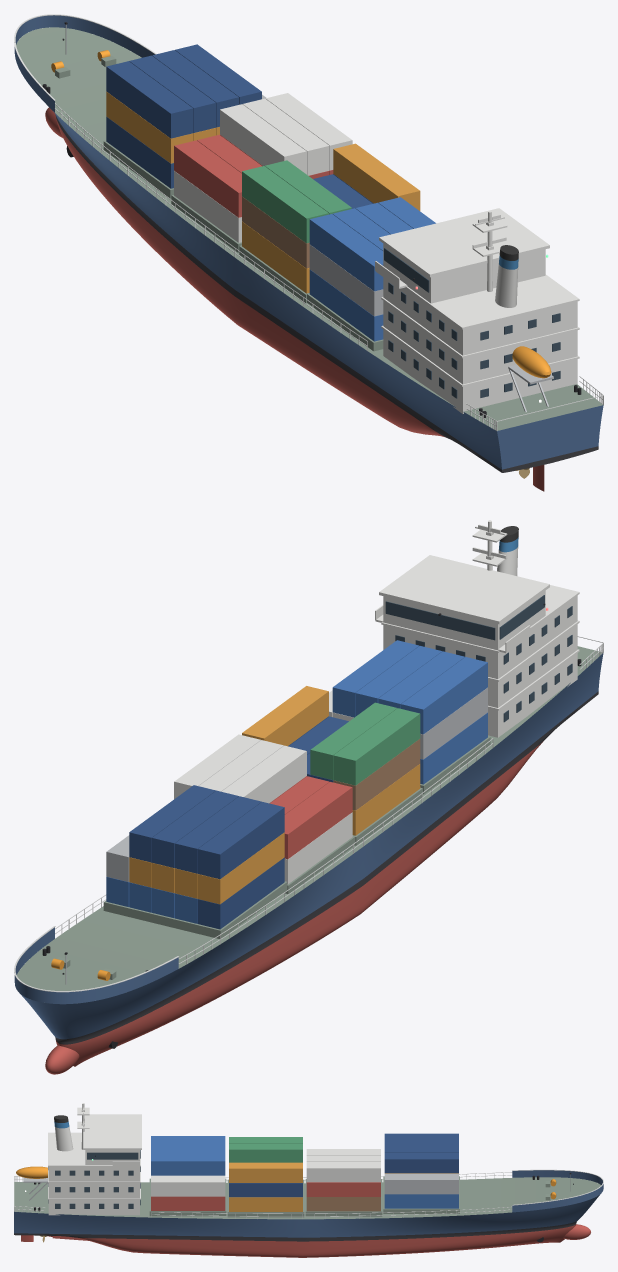
File: container_749gt.glb
3 renders of one model, top to bottom at view 1: azimuth 30°, elevation 25°; view 2: azimuth 150°, elevation 25°; view 3: azimuth 270°, elevation 25°, orthographic. The views are drawn at different scales.
Parts seen in each view (by area): view 1: cargo, hull, superstructure, deck_fittings; view 2: cargo, hull, superstructure, deck_fittings, hull_appendages; view 3: hull, cargo, superstructure, deck_fittings, hull_appendages.
Boxes of the visible parts, x1,y1,x2,y2 form: cargo: [103, 44, 435, 351]; hull: [16, 27, 603, 472]; superstructure: [62, 22, 579, 413]; deck_fittings: [14, 14, 603, 430]; cargo: [103, 640, 490, 938]; hull: [16, 646, 603, 1066]; superstructure: [62, 520, 579, 984]; deck_fittings: [14, 636, 603, 1004]; hull_appendages: [45, 1041, 117, 1074]; hull: [14, 1177, 601, 1257]; cargo: [149, 1133, 459, 1217]; superstructure: [16, 1103, 573, 1215]; deck_fittings: [14, 1169, 603, 1218]; hull_appendages: [47, 1224, 590, 1242].
Size of the model in its own units: 14.44 by 25.2 by 96.91.
